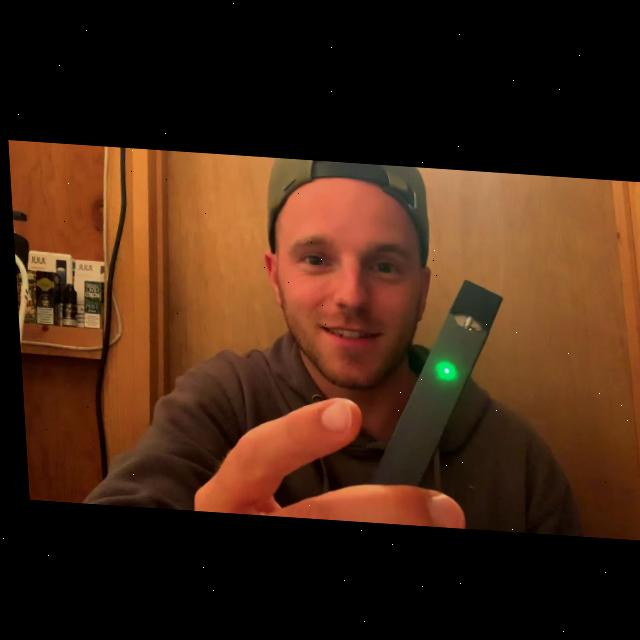vape: (354, 267, 509, 487)
